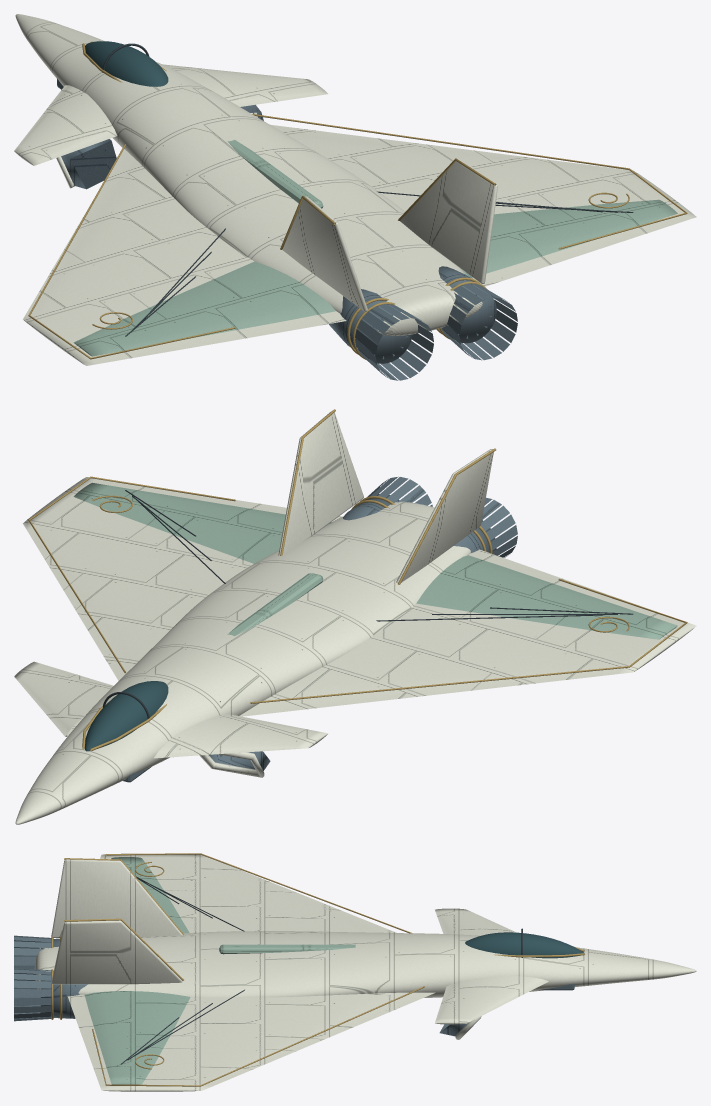
The model's file is qingluan-high.glb.
3 views of the same model, one above another, from view 1: azimuth 30°, elevation 25°; view 2: azimuth 150°, elevation 25°; view 3: azimuth 270°, elevation 25° (orthographic). The views are drawn at different scales.
Parts seen in each view (by area): view 1: ceramic-surfaces, celadon-surfaces, titanium-surfaces, brass-surfaces, graphite-surfaces, glass-surfaces; view 2: ceramic-surfaces, celadon-surfaces, brass-surfaces, titanium-surfaces, glass-surfaces, graphite-surfaces; view 3: ceramic-surfaces, celadon-surfaces, titanium-surfaces, brass-surfaces, glass-surfaces, graphite-surfaces.
Boxes of the visible parts, x1,y1,x2,y2 form: ceramic-surfaces: [14, 14, 696, 365]; celadon-surfaces: [73, 139, 677, 356]; titanium-surfaces: [57, 78, 517, 380]; brass-surfaces: [28, 41, 687, 359]; graphite-surfaces: [70, 43, 633, 336]; glass-surfaces: [85, 41, 168, 86]; ceramic-surfaces: [14, 411, 696, 824]; celadon-surfaces: [73, 482, 677, 639]; brass-surfaces: [28, 409, 687, 751]; titanium-surfaces: [123, 476, 517, 782]; glass-surfaces: [85, 681, 168, 751]; graphite-surfaces: [102, 490, 633, 718]; ceramic-surfaces: [34, 853, 696, 1091]; celadon-surfaces: [84, 857, 355, 1084]; titanium-surfaces: [14, 935, 574, 1036]; brass-surfaces: [51, 853, 584, 1086]; glass-surfaces: [465, 932, 584, 958]; graphite-surfaces: [120, 876, 522, 1064].
Size of the model in its own units: 8.3 by 1.86 by 10.15.
6 materials, 5 textured.
